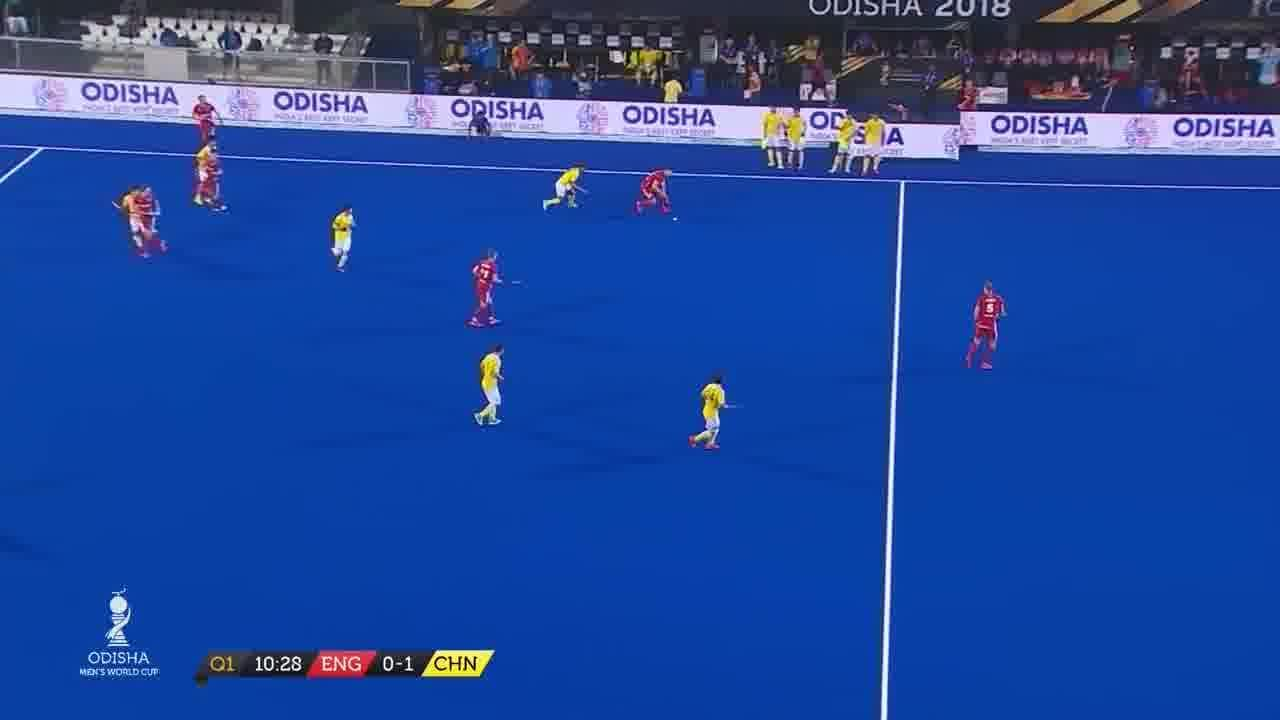ball: (668, 214, 682, 228)
